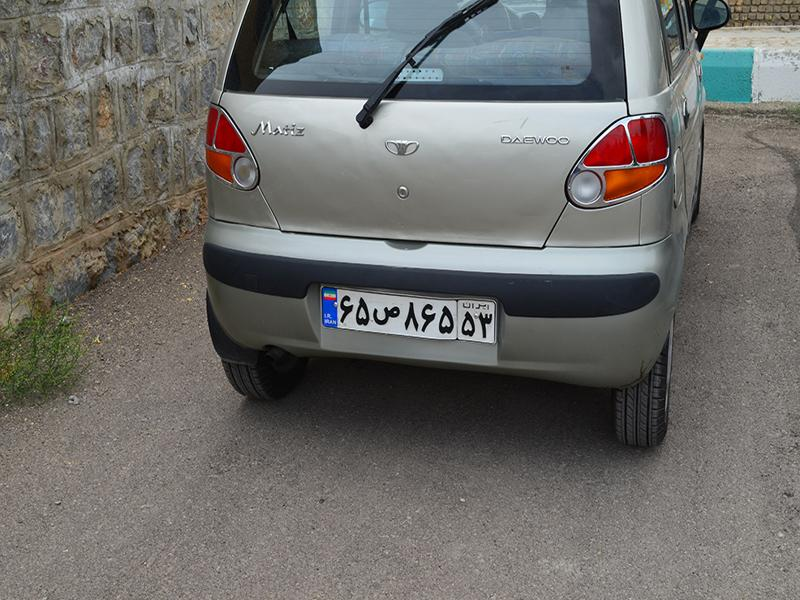Plate: (322, 284, 497, 344)
